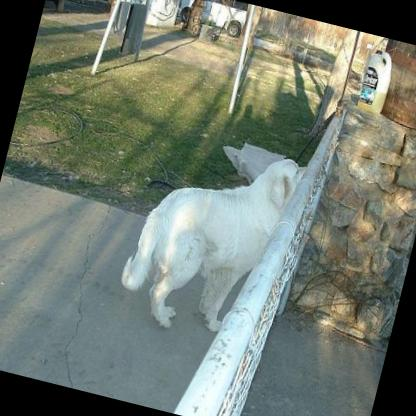Great_Pyrenees: (110, 125, 308, 352)
